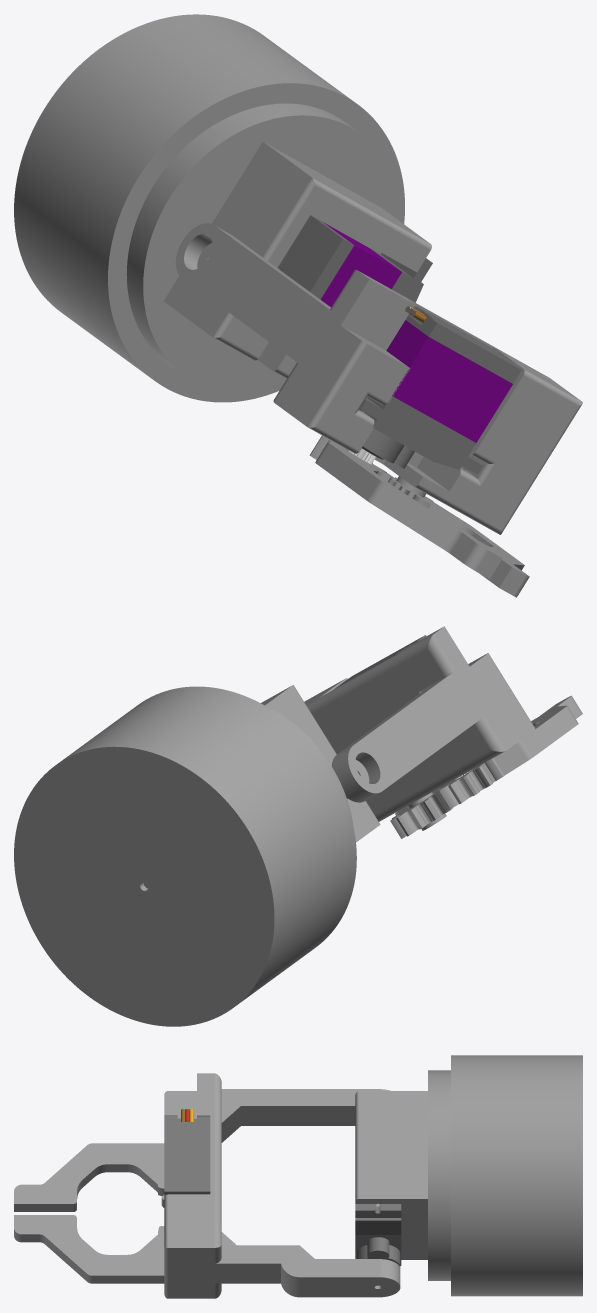
File: robotic arm.obj
3 views of the same model, one above another, from view 1: azimuth 30°, elevation 25°; view 2: azimuth 150°, elevation 25°; view 3: azimuth 270°, elevation 25° (orthographic). The views are drawn at different scales.
Visible parts, largest first — view 1: Body5, Body2:3, Body2, Body1:3, Body1:4, Body16, Body3, Body2:4, Body2:1, Body18, Body1:7, Body3:1; view 2: Body5, Body2:3, Body16, Body1:3, Body18; view 3: Body5, Body2:3, Body1:3, Body16, Body18, Body2, Body2:1, Body3:1.
Boxes of the visible parts, left/top/right/bottom form: Body5: left=14, top=14, right=404, bottom=402; Body2:3: left=175, top=223, right=582, bottom=534; Body2: left=126, top=103, right=402, bottom=394; Body1:3: left=163, top=142, right=431, bottom=378; Body1:4: left=386, top=320, right=512, bottom=442; Body16: left=309, top=435, right=502, bottom=578; Body3: left=358, top=396, right=483, bottom=474; Body2:4: left=278, top=215, right=354, bottom=299; Body2:1: left=405, top=305, right=521, bottom=383; Body18: left=387, top=473, right=529, bottom=597; Body1:7: left=320, top=222, right=401, bottom=307; Body3:1: left=370, top=248, right=432, bottom=302; Body5: left=14, top=686, right=356, bottom=1026; Body2:3: left=304, top=626, right=535, bottom=830; Body16: left=435, top=695, right=582, bottom=809; Body1:3: left=261, top=685, right=380, bottom=842; Body18: left=390, top=718, right=536, bottom=838; Body5: left=451, top=1055, right=582, bottom=1296; Body2:3: left=164, top=1073, right=400, bottom=1298; Body1:3: left=355, top=1091, right=427, bottom=1259; Body16: left=14, top=1143, right=164, bottom=1211; Body18: left=14, top=1215, right=164, bottom=1283; Body2: left=428, top=1070, right=450, bottom=1280; Body2:1: left=164, top=1115, right=210, bottom=1195; Body3:1: left=355, top=1204, right=401, bottom=1266.
Bounding box in the file's own units: 63.4 × 63 × 149.
